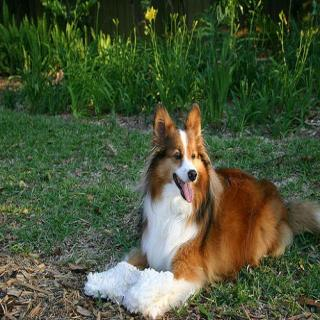dog: (134, 101, 212, 222)
nose: (185, 165, 200, 183)
